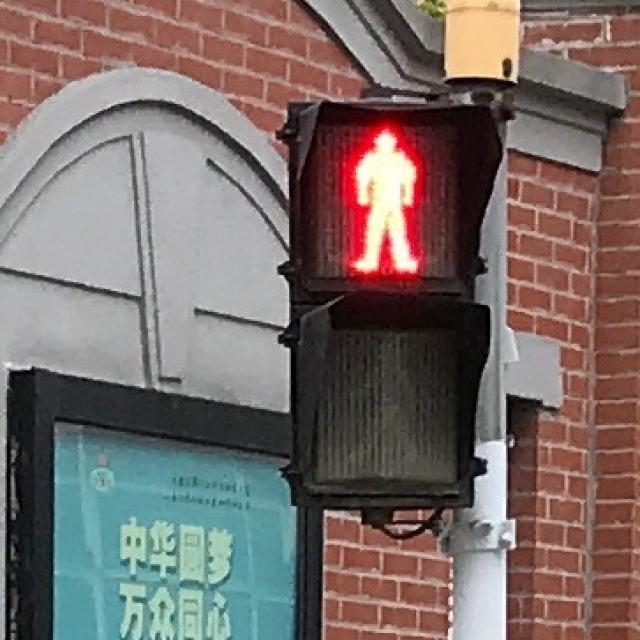red-crossing: (310, 98, 455, 300)
